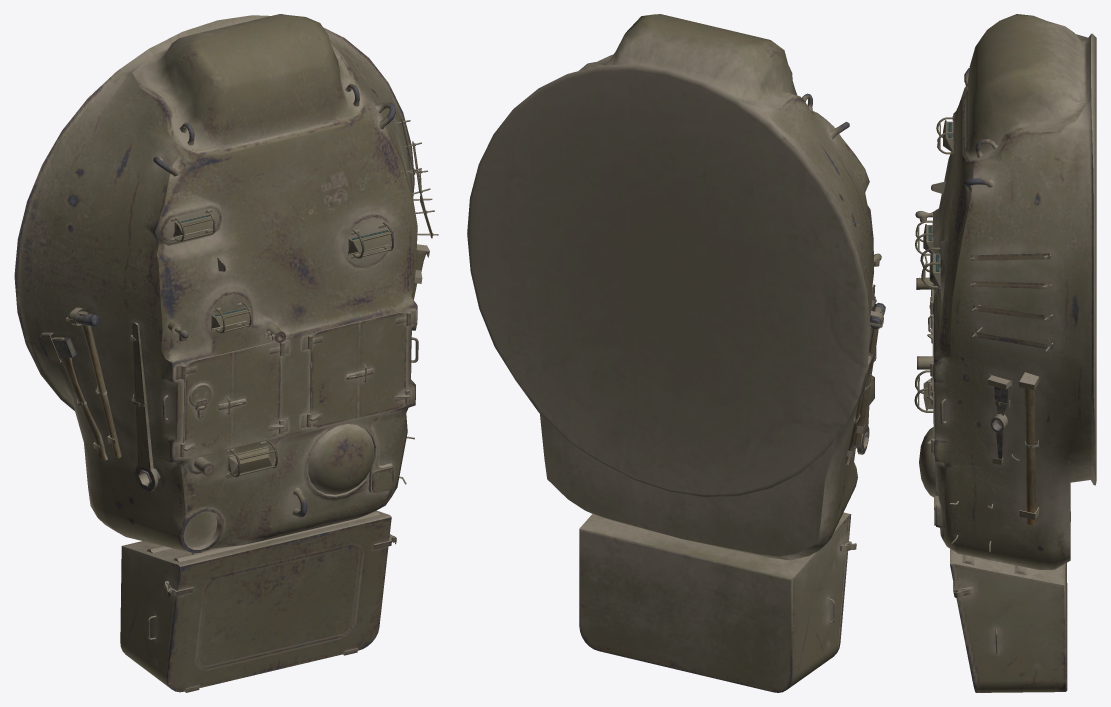
The model's file is Turret_02.glb.
3 renders of one model, left to right at view 1: azimuth 30°, elevation 25°; view 2: azimuth 150°, elevation 25°; view 3: azimuth 270°, elevation 25°, orthographic. The views are drawn at different scales.
Visible parts, largest first — view 1: set_0_group_0; view 2: set_0_group_0; view 3: set_0_group_0.
Part boxes in pixels (x1,y1,x2,y2): set_0_group_0: [14, 14, 438, 692]; set_0_group_0: [467, 14, 885, 692]; set_0_group_0: [914, 14, 1096, 692].
Bounding box in the file's own units: 1.99 × 2.97 × 0.7991.
Materials: 1 (1 with a texture image).
